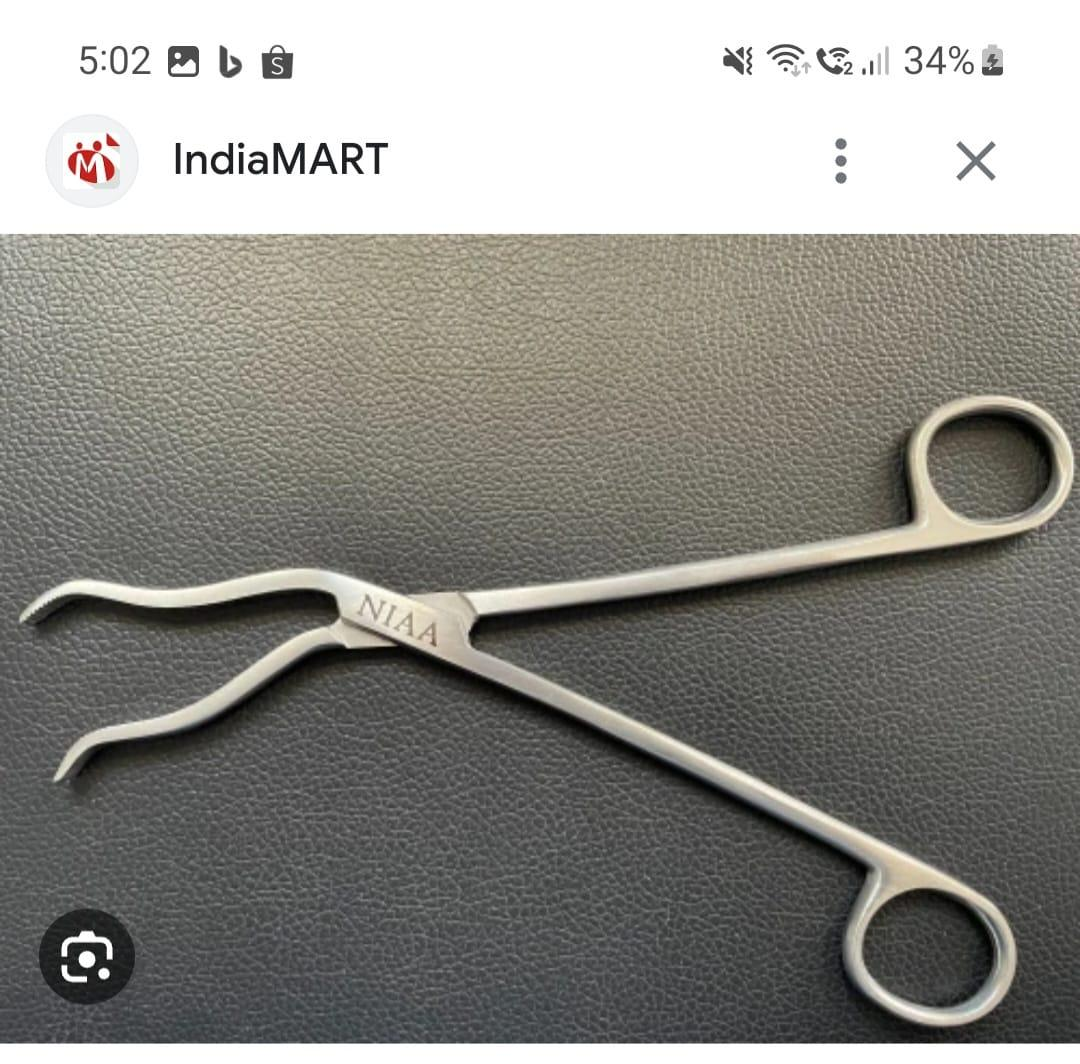Cheatle Forceps: (15, 393, 1075, 1010)
